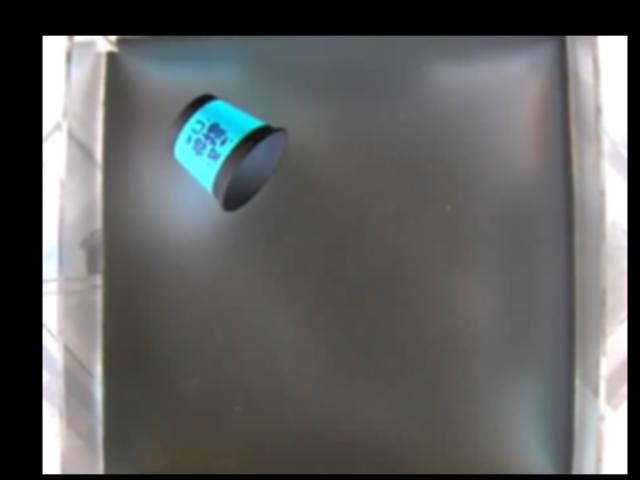Cup: (162, 93, 290, 212)
